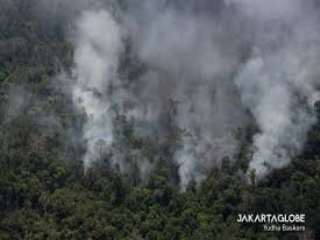smoke: (62, 17, 141, 182), (241, 53, 313, 184), (172, 71, 238, 193)
